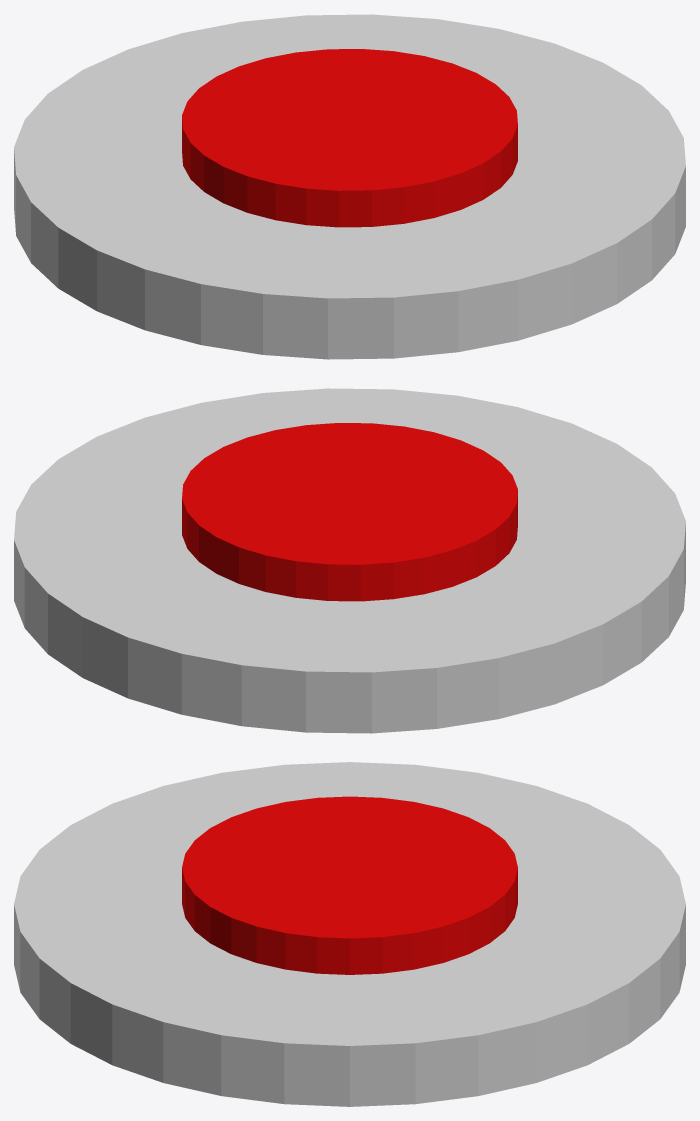
Rendered from enemy-wipe.glb.
3 views of the same model, one above another, from view 1: azimuth 30°, elevation 25°; view 2: azimuth 150°, elevation 25°; view 3: azimuth 270°, elevation 25° (orthographic).
Parts seen in each view (by area): view 1: enemy-wipe; view 2: enemy-wipe; view 3: enemy-wipe.
Part boxes in pixels (x1,y1,x2,y2): enemy-wipe: (14, 14, 685, 359); enemy-wipe: (14, 388, 685, 733); enemy-wipe: (14, 762, 685, 1106).
Size of the model in its own units: 1 by 0.16 by 1.
